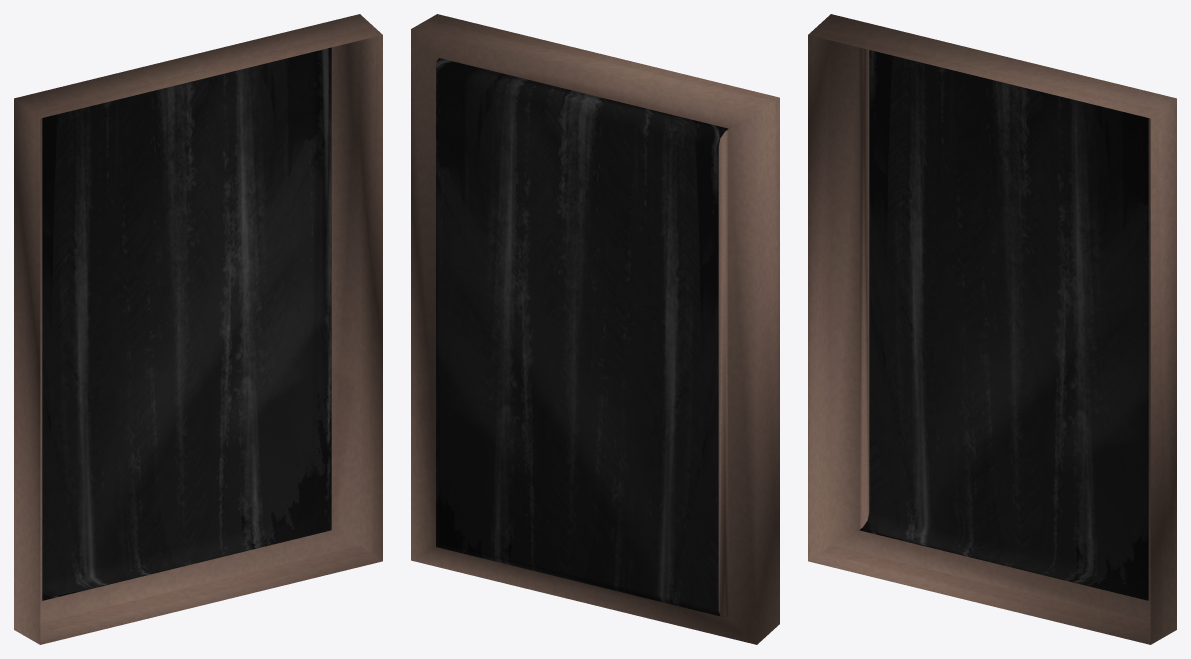
The model's file is Leather.fbx.
3 views of the same model, side by side, from view 1: azimuth 30°, elevation 25°; view 2: azimuth 150°, elevation 25°; view 3: azimuth 330°, elevation 25° (orthographic).
Parts seen in each view (by area): view 1: Leather; view 2: Leather; view 3: Leather.
Part boxes in pixels (x1,y1,x2,y2): Leather: [14, 14, 382, 644]; Leather: [411, 14, 779, 644]; Leather: [808, 14, 1176, 644].
Bounding box in the file's own units: 356 × 523 × 59.77.
